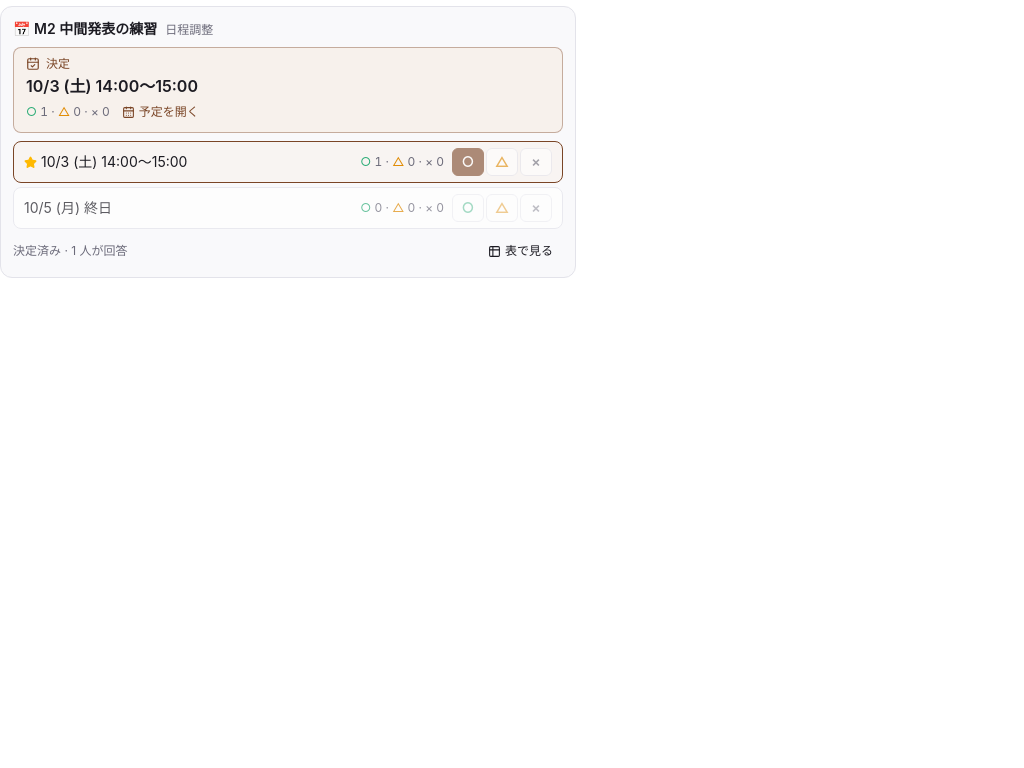
the card › opens the decided event in the event dialog
What coordinates should you click on to do the following:
click the button "予定を開く"
I would click on:
 (160, 112)
Its box is [122,100,199,124].
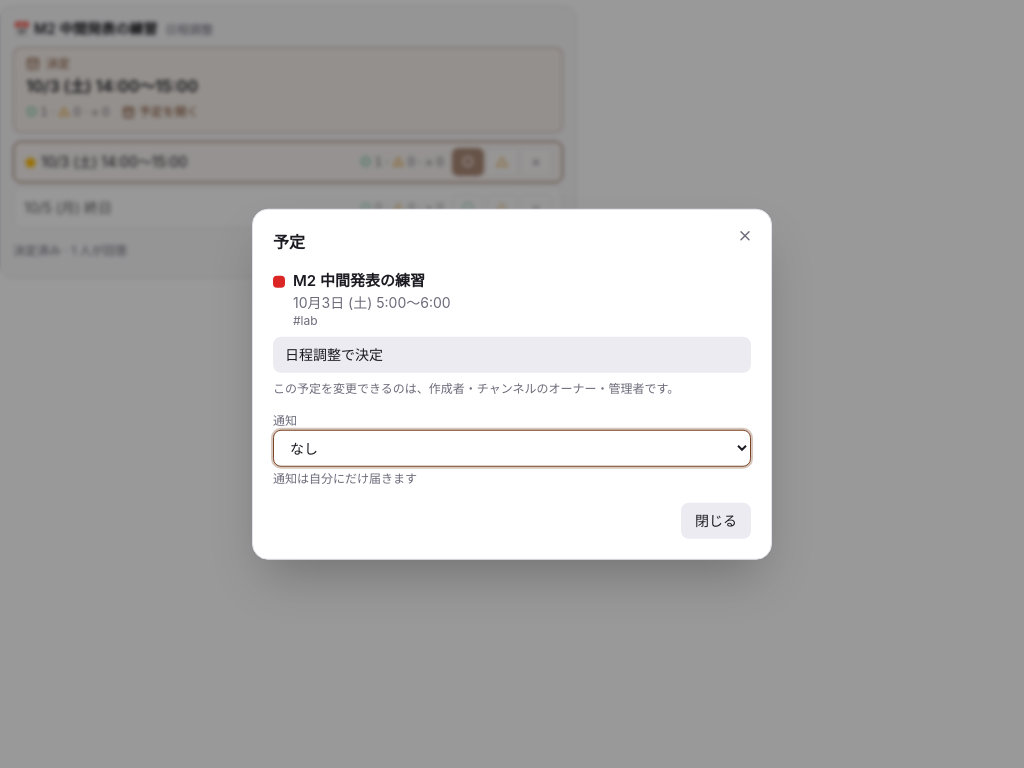
Result: the text "M2 中間発表の練習" is shown at [293,271,425,290]
Result: the text "日程調整で決定" is shown at [273,336,751,372]
